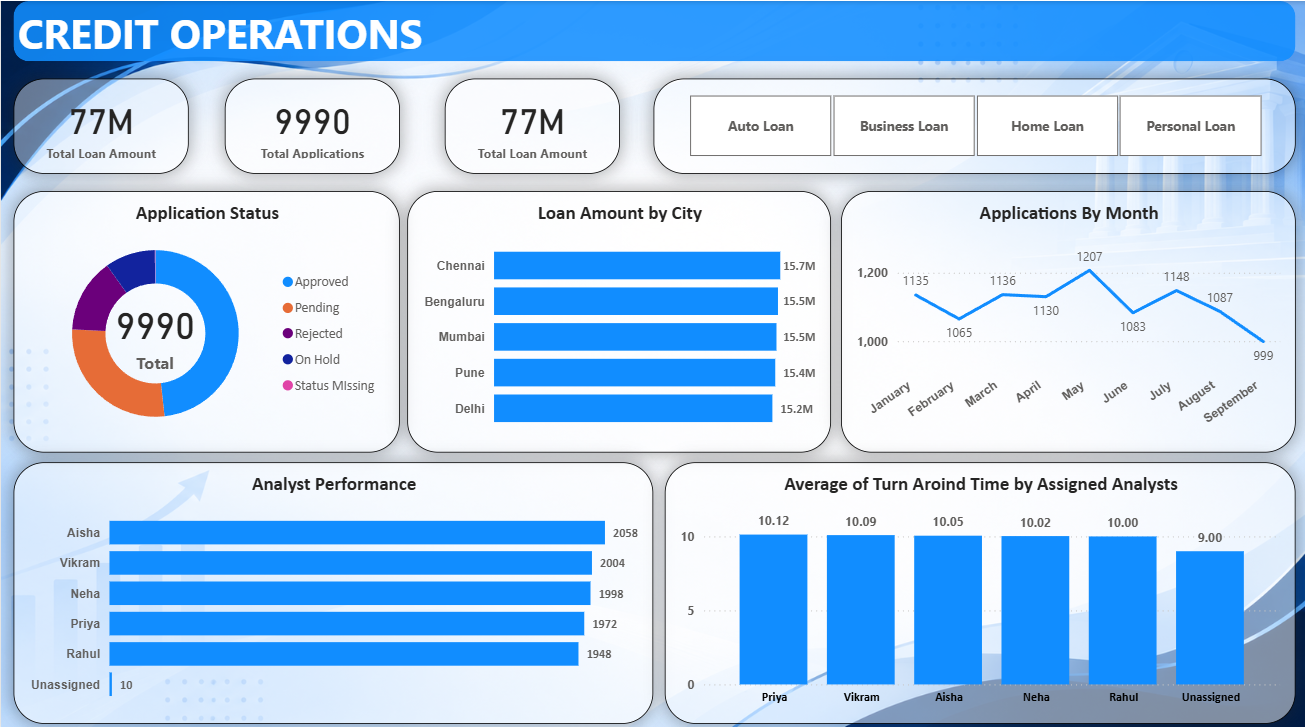

The dashboard page shown, as its layout file describes it:
{"tool":"powerbi","page":{"name":"Page 1","canvas":[1280,720],"ordinal":0},"visuals":[{"type":"card","fields":{"Values":["Sum(Clean_data.Loan_Amount_INR)"]},"box":[12.4,75.6,171.7,93.4],"z":0},{"type":"donutChart","title":"Application Status","fields":{"Category":["Clean_data.Application_Status"],"Y":["CountNonNull(Clean_data.Application_Status)"]},"box":[12.4,186.8,379.1,256.9],"z":1000},{"type":"clusteredBarChart","title":"Loan Amount by City","fields":{"Category":["Clean_data.Applicant_City"],"Y":["Sum(Clean_data.Loan_Amount_INR)"]},"box":[399.3,186.6,415.8,256.6],"z":2000},{"type":"lineChart","title":"Applications By Month","fields":{"Category":["Clean_data.Application_Date.Variation.Date Hierarchy.Month"],"Y":["CountNonNull(Clean_data.Application_ID)"]},"box":[824.2,186.8,446.4,256.9],"z":3000},{"type":"clusteredBarChart","title":"Analyst Performance","fields":{"Category":["Clean_data.Assigned_Analyst"],"Y":["CountNonNull(Clean_data.Application_ID)"]},"box":[12.4,453.3,627.8,256.9],"z":4000},{"type":"columnChart","title":"Average of Turn Aroind Time by Assigned Analysts","fields":{"Category":["Clean_data.Assigned_Analyst"],"Y":["Avg(Clean_data.Processing_TAT_Days)"]},"box":[651.1,453.3,619.5,256.9],"z":5000},{"type":"card","fields":{"Values":["Clean_data.Total Applications"]},"box":[83.8,273.4,136,105.8],"z":6000},{"type":"shape","box":[12.4,0,1258.3,59.1],"z":7000},{"type":"card","fields":{"Values":["CountNonNull(Clean_data.Application_ID)"]},"box":[219.8,75.6,171.7,93.4],"z":8000},{"type":"card","fields":{"Values":["Avg(Clean_data.Processing_TAT_Days)"]},"box":[435.5,75.6,171.7,93.4],"z":9000},{"type":"slicer","title":"Products","fields":{"Values":["Clean_data.Loan_Product"]},"box":[640.1,75.6,630.5,93.4],"z":10000}]}

Visuals, with their boxes in screenshot pixels (x1, y1, x2, y2), scaled from the page's 1280x720 canvas onto the 1305x727 screenshot:
card - Sum(Clean_data.Loan_Amount_INR): {"left": 13, "top": 76, "right": 188, "bottom": 171}
"Application Status" donutChart: {"left": 13, "top": 189, "right": 399, "bottom": 448}
"Loan Amount by City" clusteredBarChart: {"left": 407, "top": 188, "right": 831, "bottom": 448}
"Applications By Month" lineChart: {"left": 840, "top": 189, "right": 1295, "bottom": 448}
"Analyst Performance" clusteredBarChart: {"left": 13, "top": 458, "right": 653, "bottom": 717}
"Average of Turn Aroind Time by Assigned Analysts" columnChart: {"left": 664, "top": 458, "right": 1295, "bottom": 717}
card - Clean_data.Total Applications: {"left": 85, "top": 276, "right": 224, "bottom": 383}
shape: {"left": 13, "top": 0, "right": 1296, "bottom": 60}
card - CountNonNull(Clean_data.Application_ID): {"left": 224, "top": 76, "right": 399, "bottom": 171}
card - Avg(Clean_data.Processing_TAT_Days): {"left": 444, "top": 76, "right": 619, "bottom": 171}
"Products" slicer: {"left": 653, "top": 76, "right": 1295, "bottom": 171}
